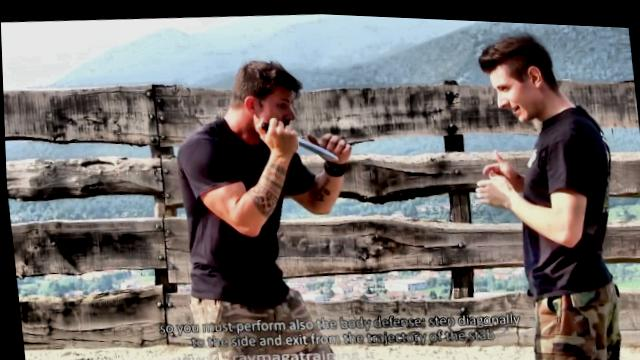knife: (251, 107, 342, 165)
